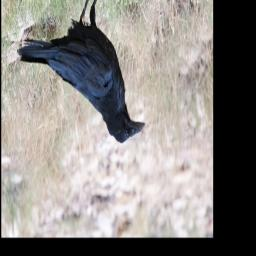Crow: (16, 0, 146, 145)
